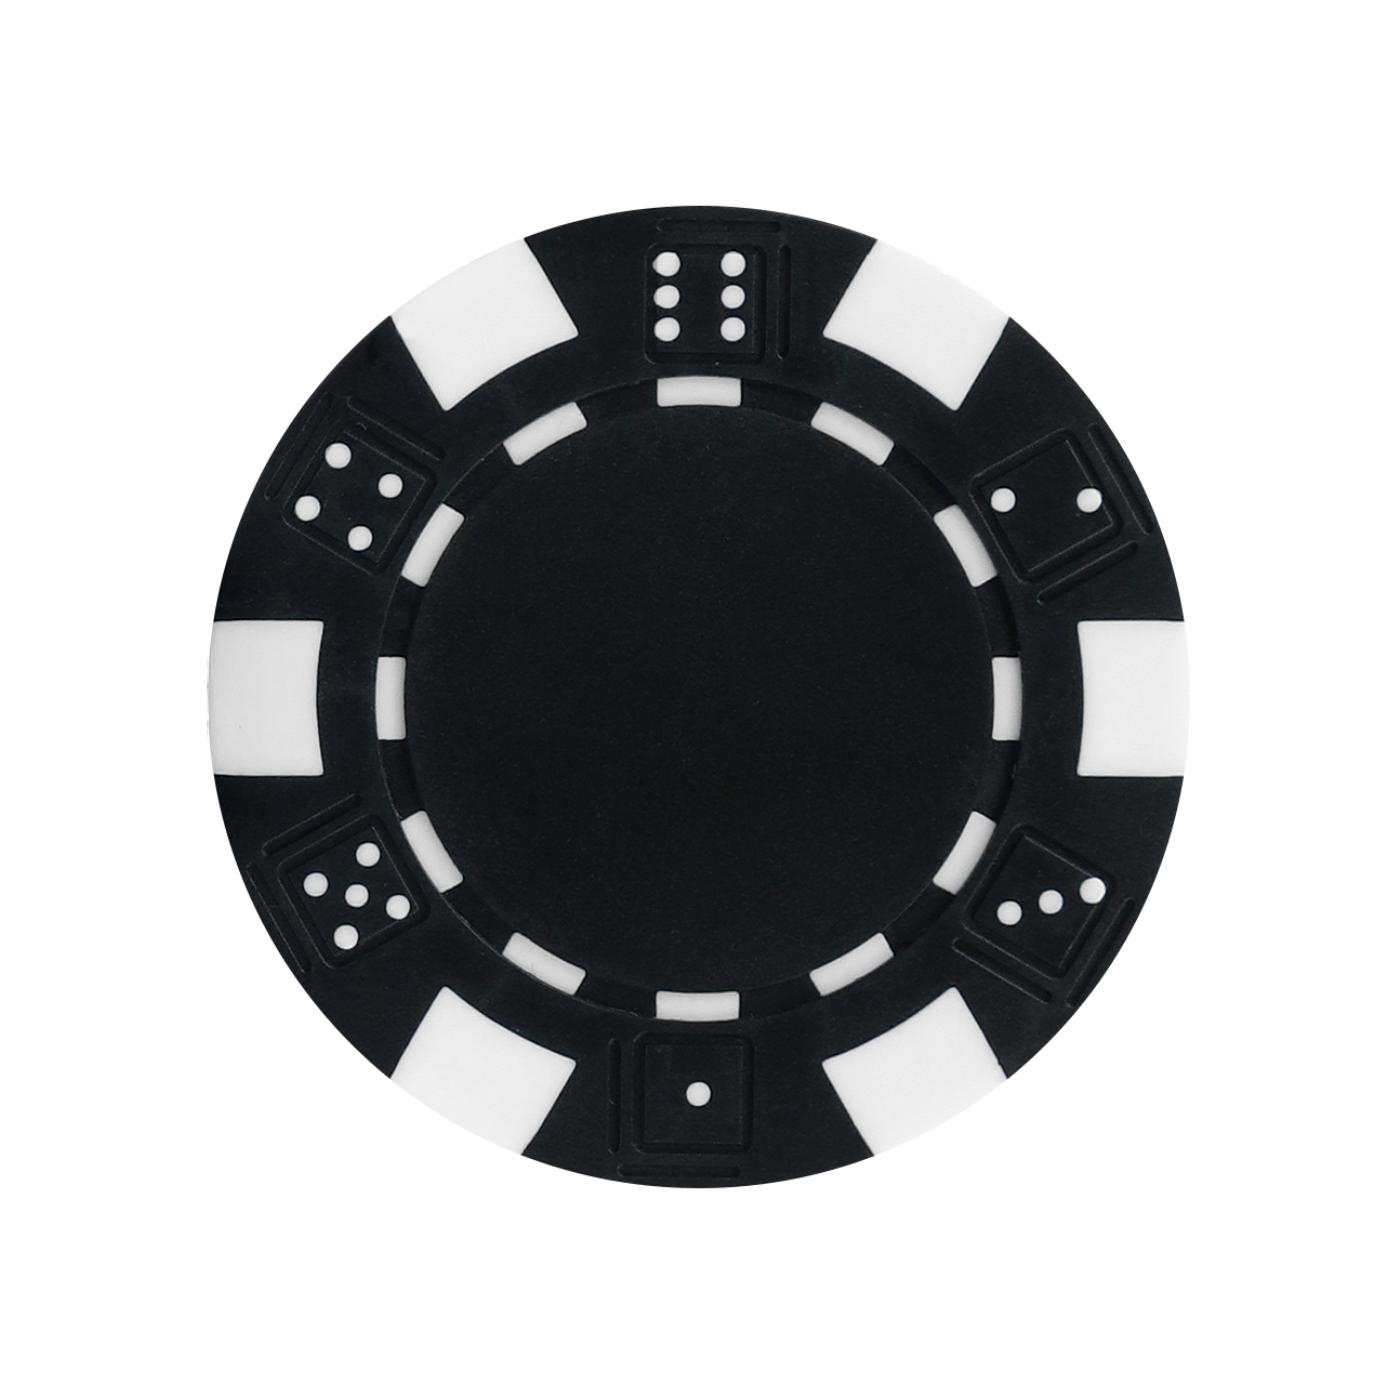chip-black: (208, 208, 1187, 1187)
